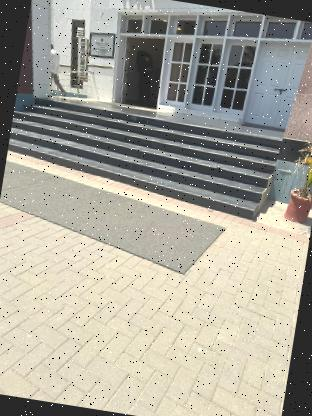door: (230, 27, 312, 136), (103, 22, 176, 113)
stair: (5, 83, 272, 227)
